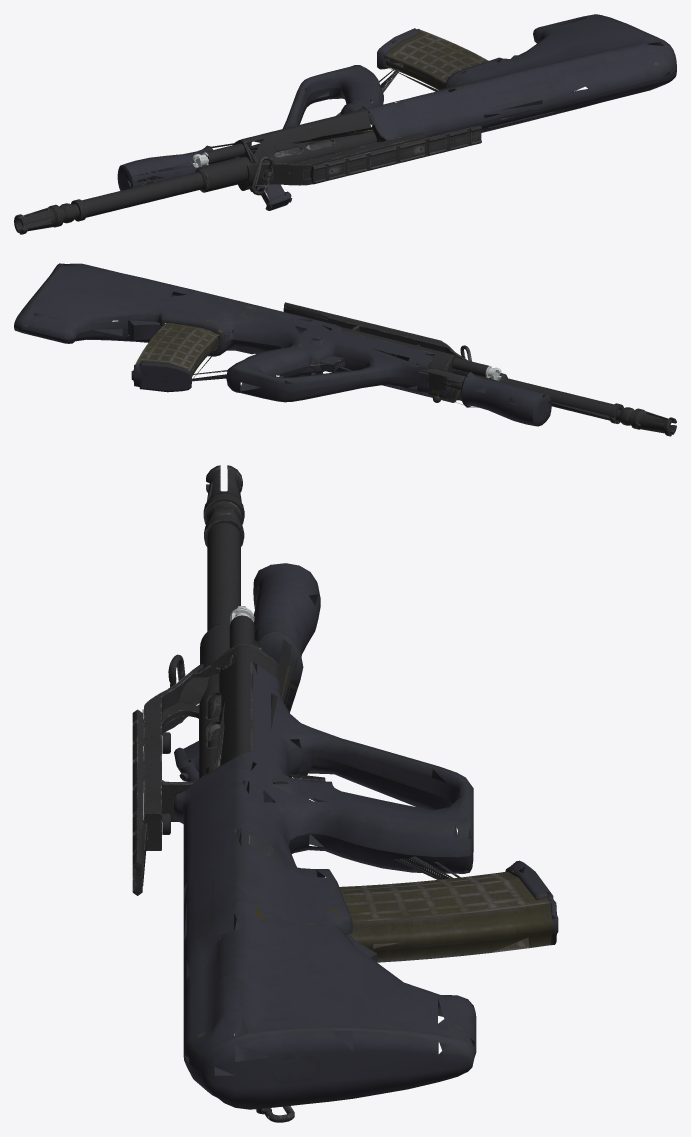
Rendered from AUG.fbx.
The picture shows the model from 3 angles, top to bottom: view 1: azimuth 30°, elevation 25°; view 2: azimuth 150°, elevation 25°; view 3: azimuth 270°, elevation 25°; orthographic projection. The views are drawn at different scales.
Visible parts, largest first — view 1: AUG__1_; view 2: AUG__1_; view 3: AUG__1_.
Part boxes in pixels (x1,y1,x2,y2): AUG__1_: [14, 14, 676, 234]; AUG__1_: [14, 263, 676, 436]; AUG__1_: [132, 465, 558, 1122].
Bounding box in the file's own units: 888 × 81.08 × 268.
Materials: 1 (1 with a texture image).
